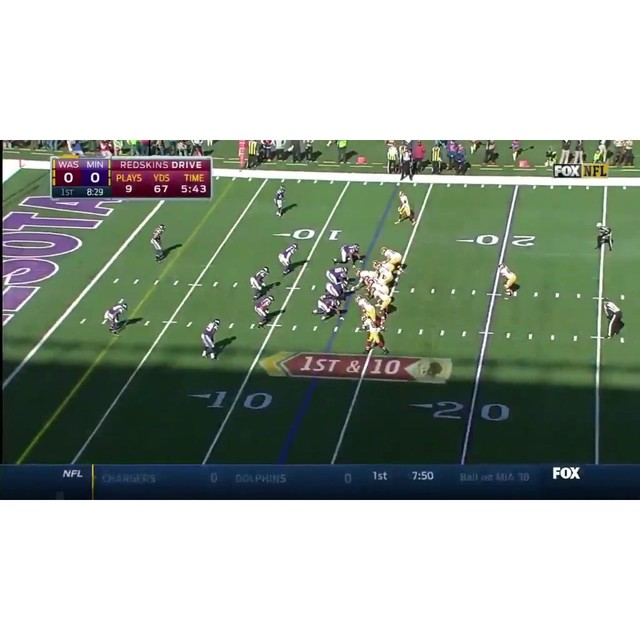american-football-player: (361, 313, 389, 355), (368, 284, 396, 319), (102, 298, 128, 335), (312, 293, 344, 323), (201, 318, 222, 361), (332, 244, 365, 269), (355, 295, 380, 327), (254, 295, 276, 329), (394, 190, 415, 225), (499, 263, 520, 298), (380, 245, 407, 272), (374, 259, 396, 292), (250, 266, 270, 299), (278, 243, 298, 276), (351, 270, 378, 292), (151, 224, 167, 261), (594, 223, 613, 252), (325, 266, 349, 286), (274, 182, 286, 218)
referee: (601, 296, 624, 340)
